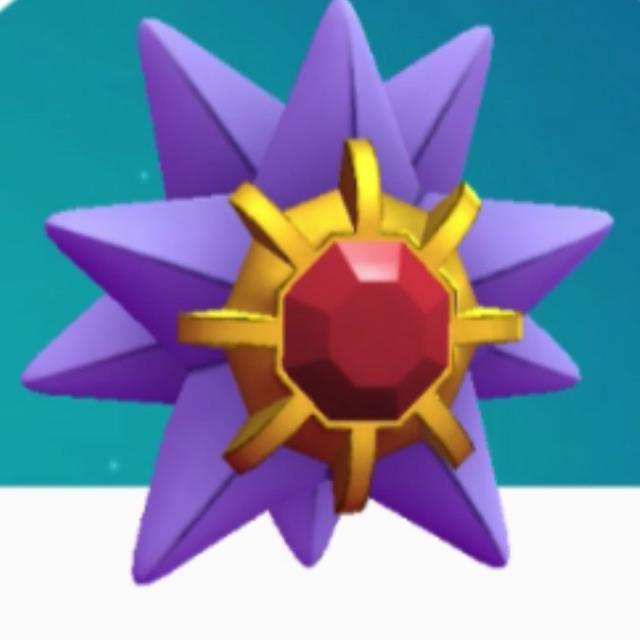Starmie: (130, 3, 610, 590)
